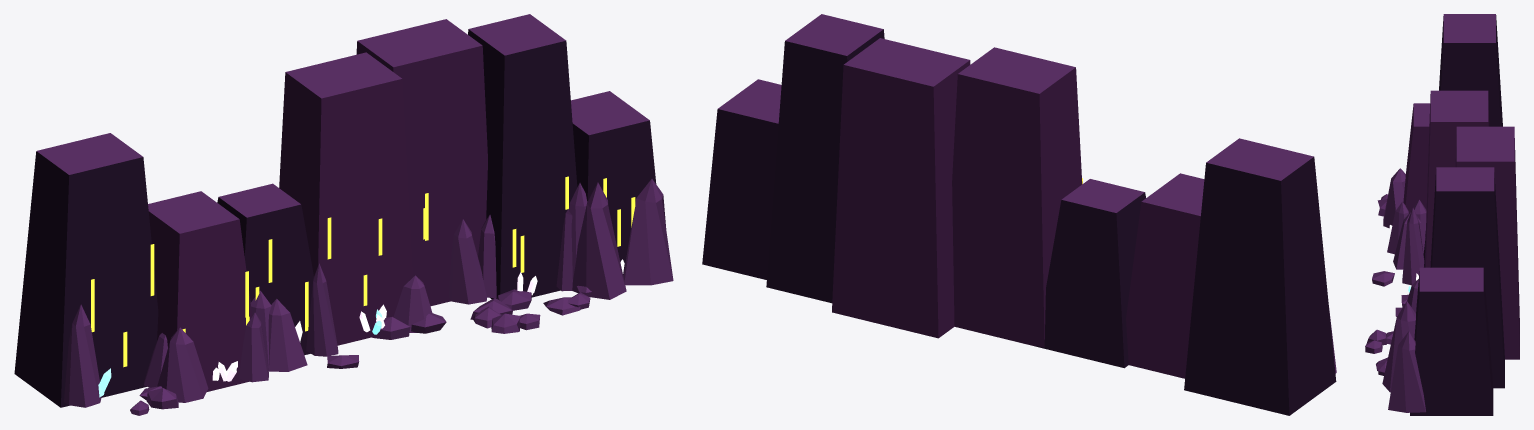
The model's file is W4_Mid_CaveWall_B.fbx.
3 renders of one model, left to right at view 1: azimuth 30°, elevation 25°; view 2: azimuth 150°, elevation 25°; view 3: azimuth 270°, elevation 25°, orthographic. The views are drawn at different scales.
Parts seen in each view (by area): view 1: W4_Mid_CaveWall_B; view 2: W4_Mid_CaveWall_B; view 3: W4_Mid_CaveWall_B.
Part boxes in pixels (x1,y1,x2,y2): W4_Mid_CaveWall_B: (14,14,673,415); W4_Mid_CaveWall_B: (702,14,1336,415); W4_Mid_CaveWall_B: (1365,14,1519,415).
Bounding box in the file's own units: 128 × 50.91 × 36.27.
